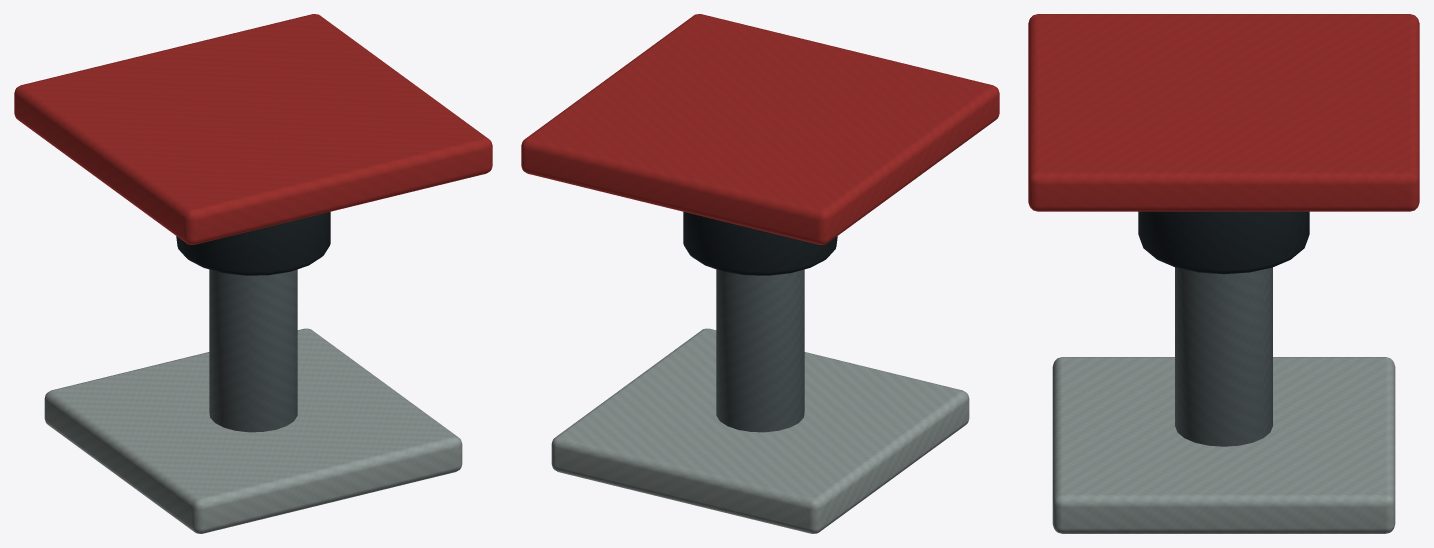
Rendered from CeilingSprinkler.glb.
The picture shows the model from 3 angles, left to right: view 1: azimuth 30°, elevation 25°; view 2: azimuth 150°, elevation 25°; view 3: azimuth 270°, elevation 25°; orthographic projection. The views are drawn at different scales.
Parts seen in each view (by area): view 1: CeilingSprinkler_Mesh; view 2: CeilingSprinkler_Mesh; view 3: CeilingSprinkler_Mesh.
Boxes of the visible parts, x1,y1,x2,y2 form: CeilingSprinkler_Mesh: (14, 14, 492, 533); CeilingSprinkler_Mesh: (521, 14, 999, 533); CeilingSprinkler_Mesh: (1028, 14, 1419, 533).
Bounding box in the file's own units: 0.32 × 0.3375 × 0.32.
Materials: 5 (5 with a texture image).
